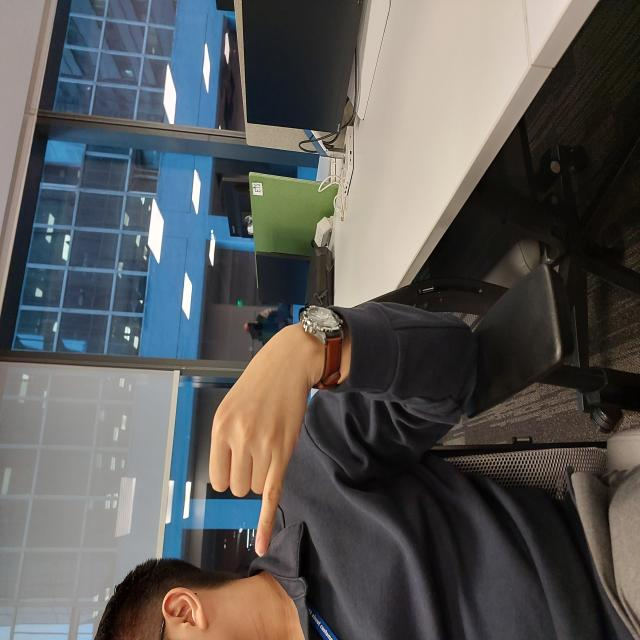J: (84, 208, 282, 309)
